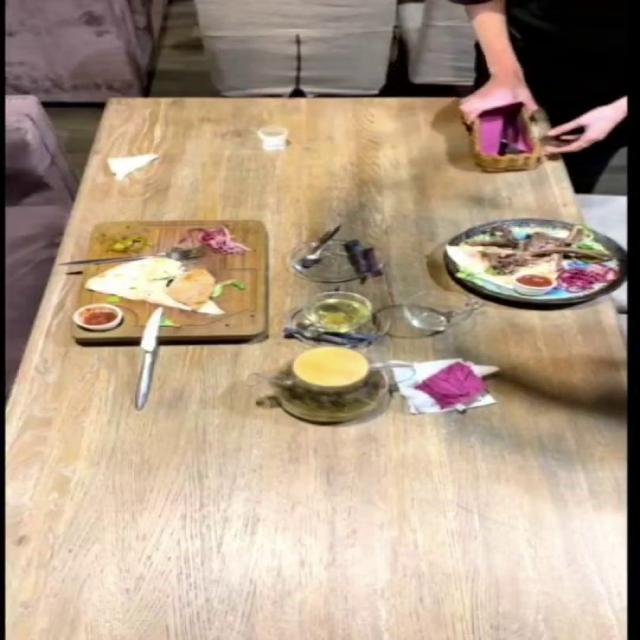meat: (462, 217, 640, 315)
tea: (238, 352, 421, 435)
